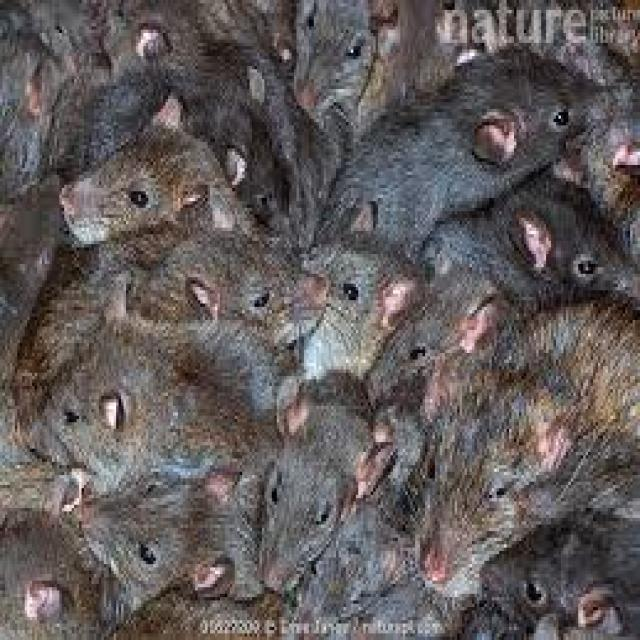Rat_Cat_Dog: (6, 6, 633, 640)
